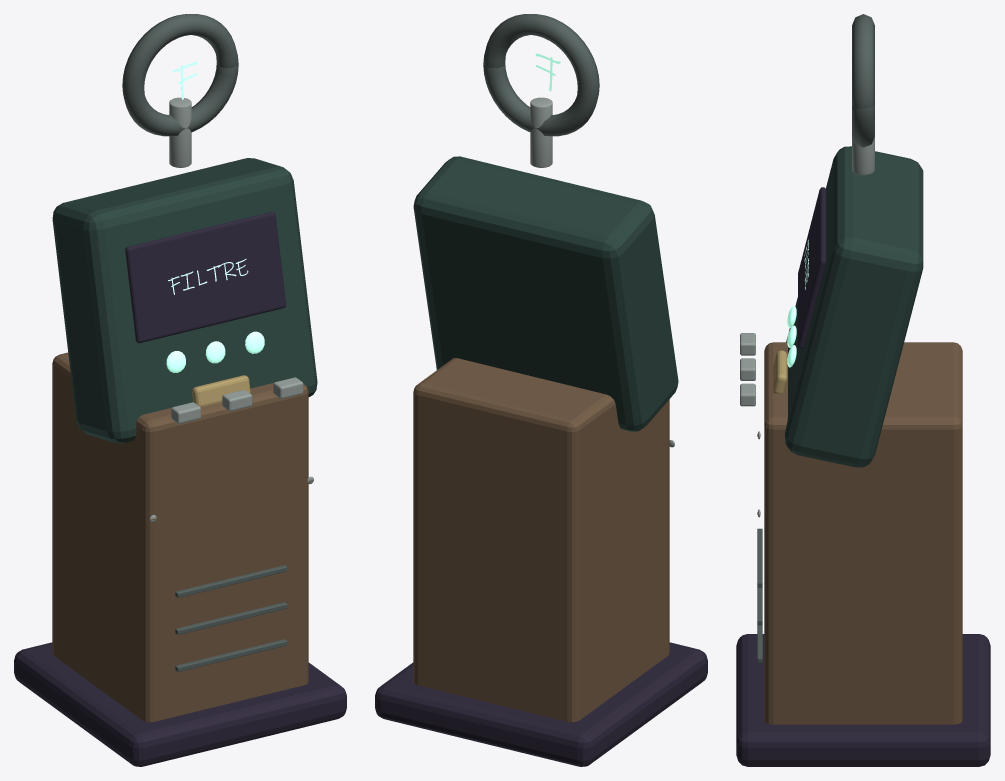
Rendered from terminal_filter.glb.
The picture shows the model from 3 angles, left to right: view 1: azimuth 30°, elevation 25°; view 2: azimuth 150°, elevation 25°; view 3: azimuth 270°, elevation 25°; orthographic projection.
Parts seen in each view (by area): view 1: Walnut_pedestal, Teal_panel, Foot, Screen, Badge, Badge_stem, Button, Pedestal_vent, Pedestal_vent.001, Pedestal_vent.002; view 2: Walnut_pedestal, Teal_panel, Foot, Badge, Badge_stem; view 3: Walnut_pedestal, Teal_panel, Foot, Badge, Screen, Badge_stem, Button.
Part boxes in pixels (<box>): Walnut_pedestal: <box>52,352,308,722</box>; Teal_panel: <box>52,158,317,443</box>; Foot: <box>14,642,346,766</box>; Screen: <box>125,211,286,343</box>; Badge: <box>122,14,238,136</box>; Badge_stem: <box>169,97,191,167</box>; Button: <box>192,375,250,407</box>; Pedestal_vent: <box>175,639,287,671</box>; Pedestal_vent.001: <box>175,602,287,634</box>; Pedestal_vent.002: <box>175,565,287,597</box>; Walnut_pedestal: <box>413,358,669,722</box>; Teal_panel: <box>413,156,678,431</box>; Foot: <box>375,642,707,766</box>; Badge: <box>483,14,599,136</box>; Badge_stem: <box>530,97,552,167</box>; Walnut_pedestal: <box>764,342,962,724</box>; Teal_panel: <box>785,146,923,467</box>; Foot: <box>736,634,990,766</box>; Badge: <box>852,14,874,147</box>; Screen: <box>798,187,826,348</box>; Badge_stem: <box>852,137,874,175</box>; Button: <box>773,350,787,393</box>.
Size of the model in its own units: 0.55 by 1.66 by 0.55.
